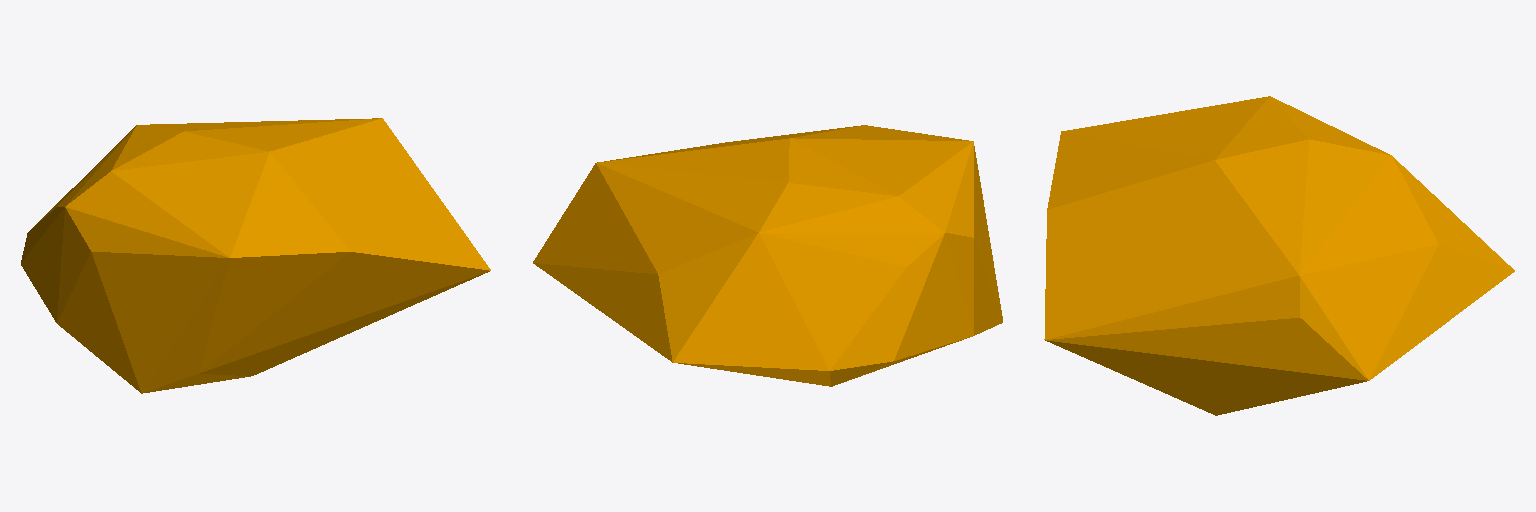
URDF robot description (test333):
<?xml version="1.0"?>
<robot name="test333">
  <link name="link">
    <contact>
      <lateral_friction value="0.6"/>
    </contact>
    <inertial>
      <mass value = "0.44676669177919076"/>
      <inertia ixx="0.00021506471316505248" ixy="1.132465403959264e-21" ixz="1.0418681716425237e-19" iyy="0.00026594703482645253" iyz="5.152717588014656e-20" izz="0.00042441760319308024" />
    </inertial>
    <visual name="visual">
      <geometry>
        <mesh filename="test333.obj"/>
      </geometry>
    </visual>
    <collision name="collision">
      <geometry>
        <mesh filename="test333.obj"/>
      </geometry>
    </collision>
  </link>
</robot>

--- What the picture shows (computed from the rendered views, not written in the file) ---
Views: 3 orthographic renders of the robot side by side, from view 1: azimuth 30°, elevation 25°; view 2: azimuth 150°, elevation 25°; view 3: azimuth 270°, elevation 25°.
Model test333 with 1 links and 0 joints (none), rooted at link, posed all joints at 0.
Links seen in each view (by area): view 1: link; view 2: link; view 3: link.
Boxes of the visible links, <box> form: link: <box>21,118,490,393</box>; link: <box>533,125,1002,386</box>; link: <box>1044,96,1514,415</box>.
Size in the robot's own frame: 0.094 by 0.0932 by 0.0468 metres.
1 mesh visuals loaded from 1 distinct referenced files (1 OBJ).
